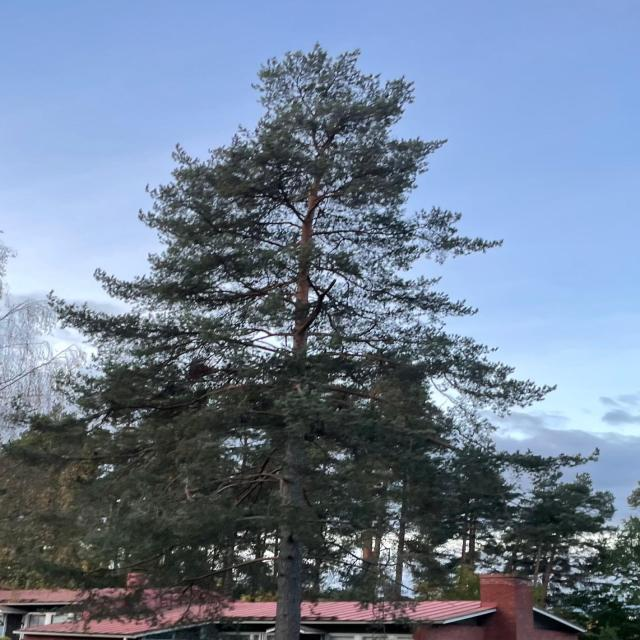pine: (41, 12, 607, 640)
